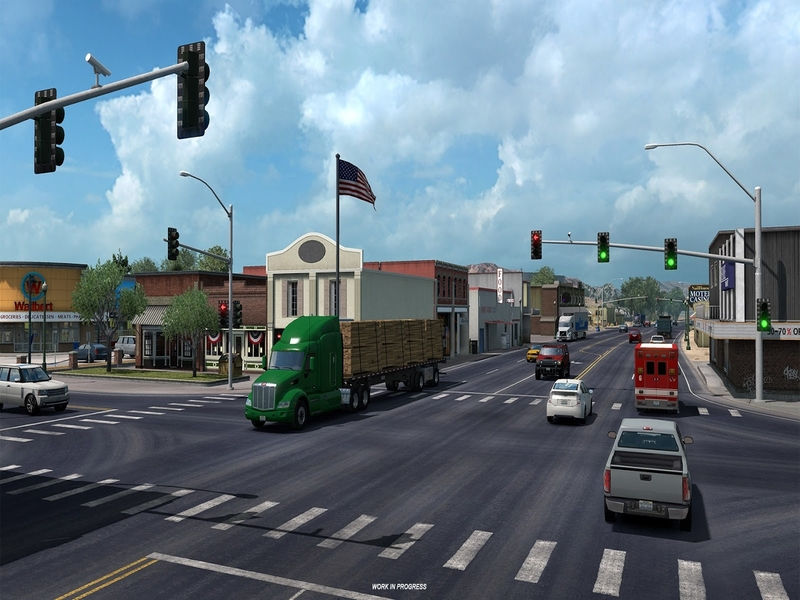traffic_light: (175, 38, 211, 140), (175, 38, 211, 140), (32, 88, 65, 173), (32, 88, 65, 173), (663, 238, 678, 270), (663, 238, 678, 270), (755, 297, 770, 329), (755, 297, 770, 329), (596, 232, 611, 263), (596, 232, 611, 263), (166, 229, 178, 261), (166, 229, 178, 261), (530, 229, 542, 259), (530, 229, 542, 259), (217, 298, 229, 327), (217, 298, 229, 327), (232, 300, 242, 327), (232, 300, 242, 327)
